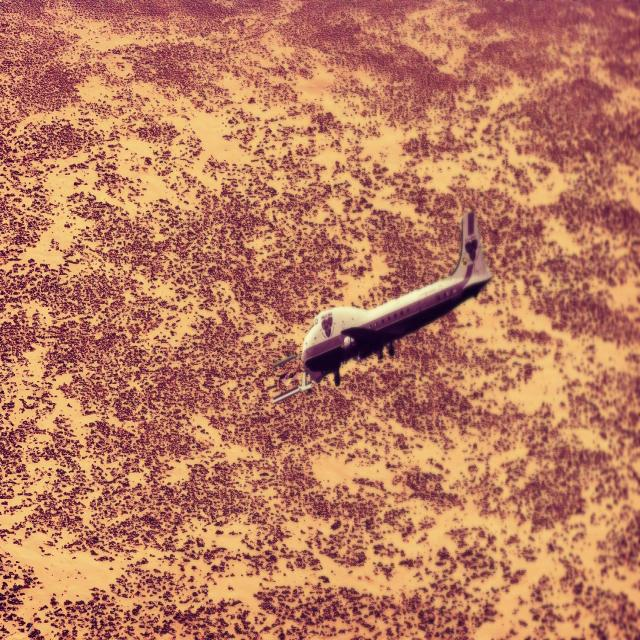airplane: (272, 209, 492, 405)
